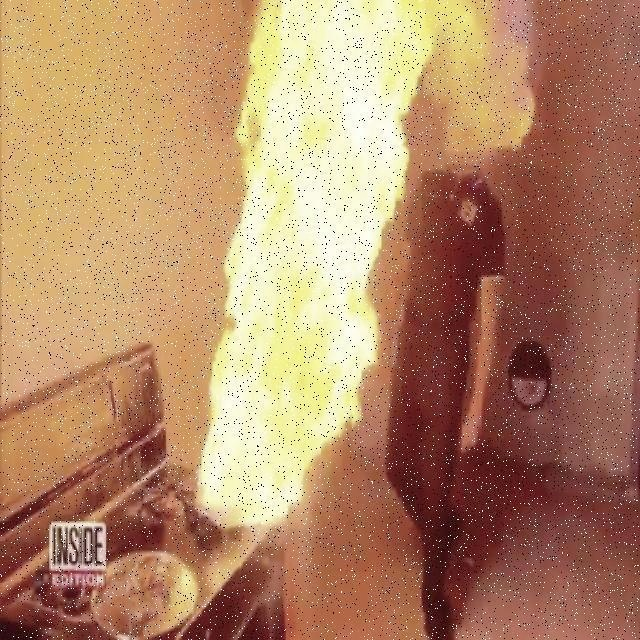fire: (153, 0, 441, 549)
